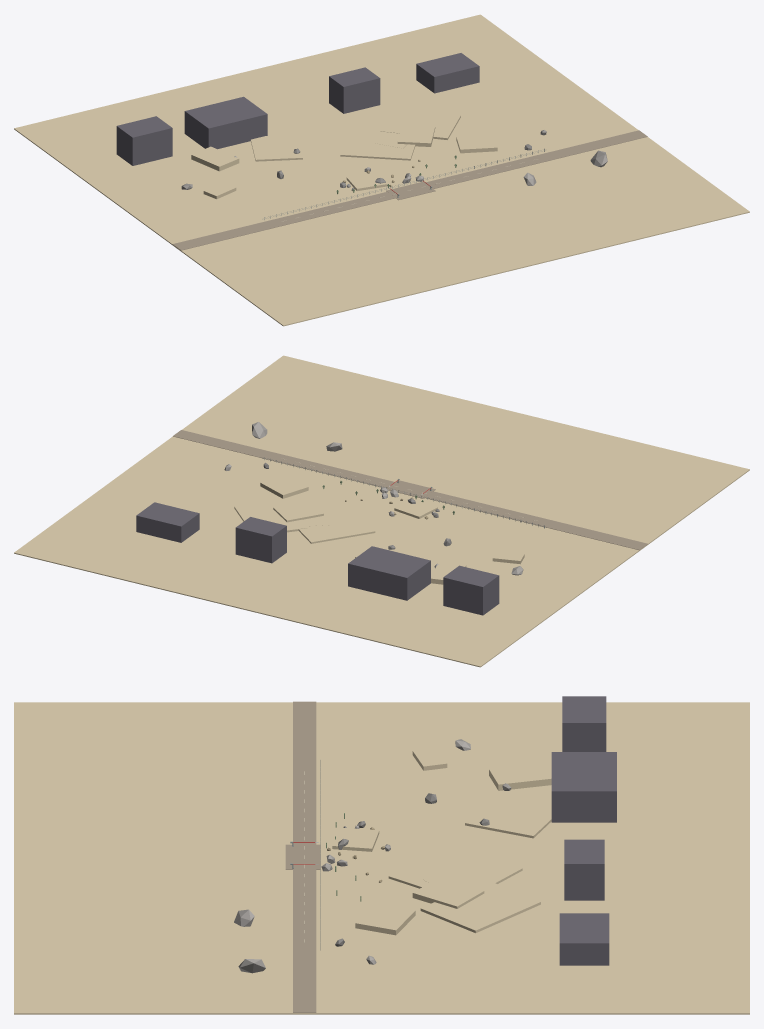
The model's file is exterior.glb.
3 renders of one model, top to bottom at view 1: azimuth 30°, elevation 25°; view 2: azimuth 150°, elevation 25°; view 3: azimuth 270°, elevation 25°, orthographic. The views are drawn at different scales.
Visible parts, largest first — view 1: ground, road, mesa_1, mesa_0, mesa_2, mesa_3, dune_3, dune_8, dune_0, dune_4, dune_6, dune_7; view 2: ground, road, mesa_1, mesa_0, mesa_2, mesa_3, dune_3, dune_8, dune_7, dune_6; view 3: ground, road, mesa_1, dune_8, dune_3, mesa_3, mesa_2, mesa_0, dune_0, dune_6, dune_7, dune_4 (+3 smaller).
Boxes of the visible parts, x1,y1,x2,y2 form: ground: (14, 14, 749, 326); road: (172, 130, 647, 250); mesa_1: (184, 96, 267, 149); mesa_0: (116, 116, 172, 165); mesa_2: (329, 67, 380, 113); mesa_3: (416, 53, 479, 93); dune_3: (340, 126, 415, 160); dune_8: (380, 108, 460, 139); dune_0: (250, 134, 302, 161); dune_4: (191, 146, 239, 171); dune_6: (397, 125, 435, 146); dune_7: (456, 134, 497, 153); ground: (14, 355, 749, 667); road: (173, 430, 647, 549); mesa_1: (348, 546, 430, 600); mesa_0: (443, 565, 499, 615); mesa_2: (235, 517, 286, 563); mesa_3: (136, 502, 199, 542); dune_3: (298, 503, 375, 543); dune_8: (234, 500, 306, 532); dune_7: (260, 474, 308, 498); dune_6: (273, 500, 323, 522); ground: (14, 702, 749, 1014); road: (293, 701, 316, 1012); mesa_1: (551, 752, 616, 822); dune_8: (420, 879, 540, 933); dune_3: (388, 844, 522, 888); mesa_3: (559, 913, 609, 965); mesa_2: (564, 839, 604, 900); mesa_0: (562, 696, 606, 751); dune_0: (465, 798, 551, 838); dune_6: (412, 877, 484, 908); dune_7: (355, 903, 415, 935); dune_4: (489, 763, 551, 790).
Size of the model in its own units: 200 by 13.88 by 200.
